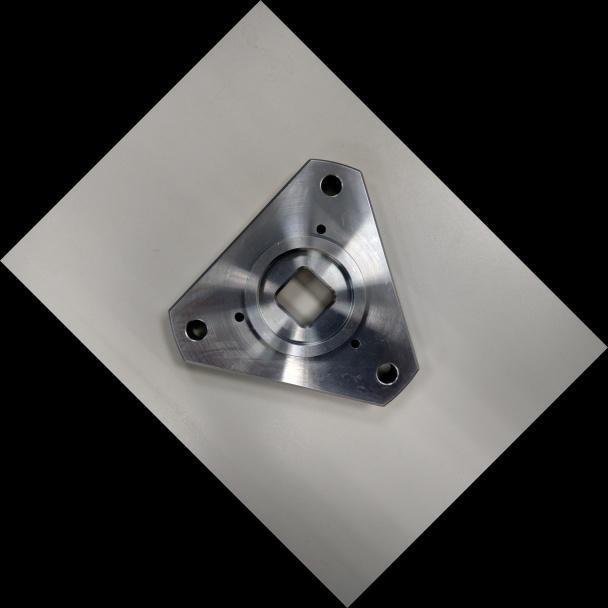hole: (311, 165, 350, 204), (366, 353, 405, 392), (177, 310, 215, 348), (228, 305, 250, 328), (344, 333, 365, 353), (311, 218, 331, 238)
